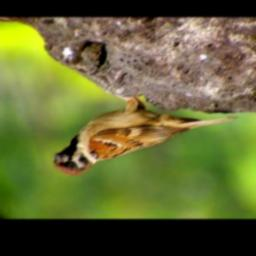Sparrow: (46, 91, 241, 179)
